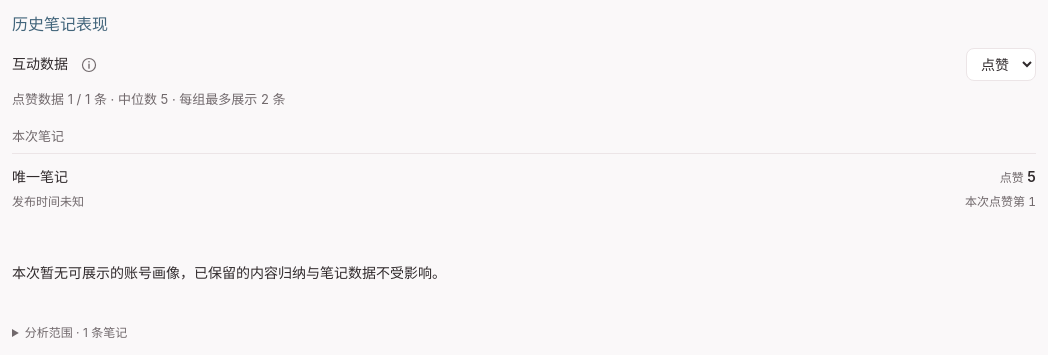
Test: does not present a single cited note as a recurring account theme in reopened results
Expected: the text "本次暂无可展示的账号画像，已保留的内容归纳与笔记数据不受影响。" is shown, [12, 264, 446, 281]
Step 1. Focus the button named "笔记表现数据说明" → (88, 64), box [76, 52, 102, 78]
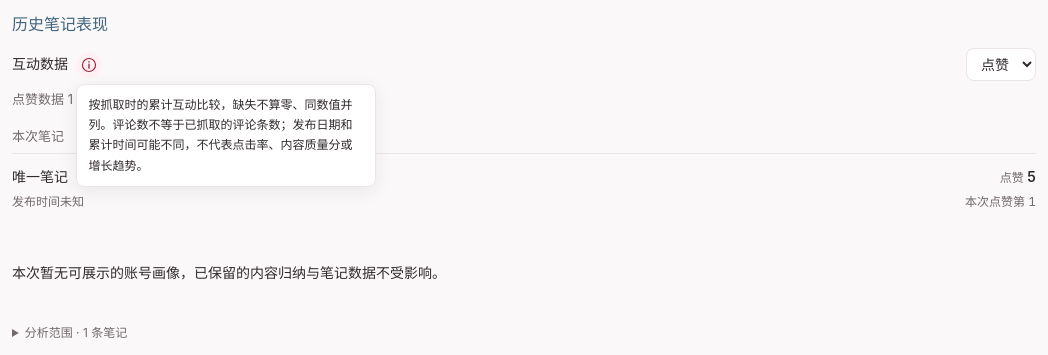
Result: the tooltip shows "发布日期和累计时间可能不同" at [88, 96, 352, 173]
